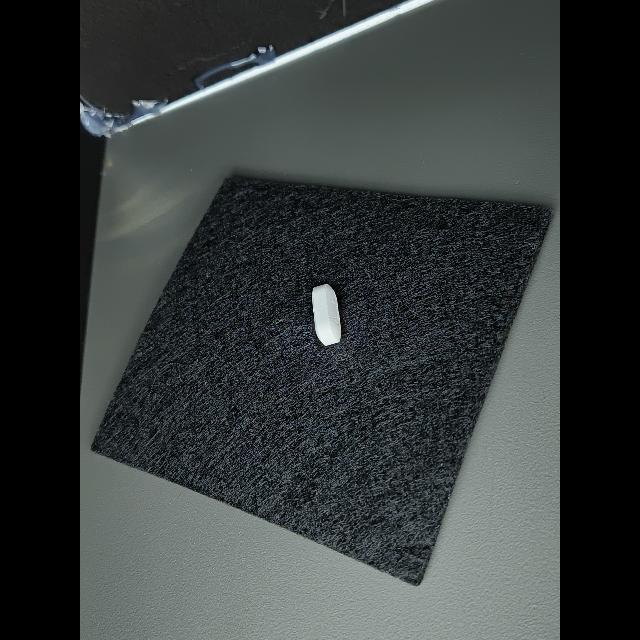Intact Pill: (312, 284, 341, 346)
